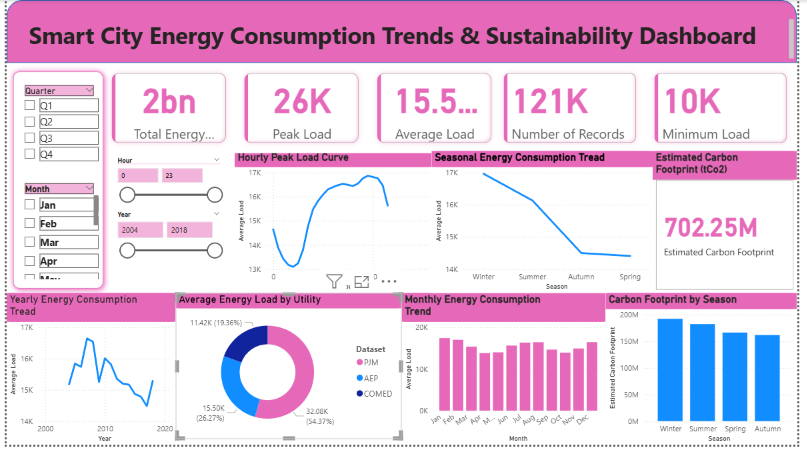

Layout of this report page (visuals, bound fields, positions):
{"tool":"powerbi","page":{"name":"Page 1","canvas":[1280,720],"ordinal":0},"visuals":[{"type":"lineChart","title":" Hourly Peak Load Curve","fields":{"Category":["EnergyData.Hour"],"Y":["EnergyData.Average Load"]},"box":[369.2,244.5,319,229.9],"z":0},{"type":"cardVisual","fields":{"Data":["EnergyData.Total Energy Consumption","EnergyData.Peak Load","EnergyData.Average Load"]},"box":[153.8,102,649.3,145.7],"z":1000},{"type":"cardVisual","fields":{"Data":["EnergyData.Number of Records","EnergyData.Minimum Load"]},"box":[788.6,102,490.6,145.7],"z":2000},{"type":"shape","box":[0,0,1279.2,102],"z":3000},{"type":"textbox","box":[0,26.5,1279.4,75.6],"z":4000},{"type":"shape","box":[0,105.2,166.8,372.4],"z":5000},{"type":"columnChart","title":"Monthly Energy Consumption Trend","fields":{"Category":["EnergyData.Month"],"Y":["EnergyData.Average Load"]},"box":[639.6,474.4,330.3,246.1],"z":6000},{"type":"lineChart","title":"Seasonal Energy Consumption Tread","fields":{"Category":["EnergyData.Season"],"Y":["EnergyData.Average Load"]},"box":[688.2,244.5,357.8,229.9],"z":7000},{"type":"lineChart","title":"Yearly Energy Consumption Tread","fields":{"Category":["EnergyData.Year"],"Y":["EnergyData.Average Load"]},"box":[0,474.4,273.6,246.1],"z":8000},{"type":"slicer","fields":{"Values":["EnergyData.Year"]},"box":[166.8,335.2,191.1,103.6],"z":9000},{"type":"slicer","fields":{"Values":["EnergyData.Quarter"]},"box":[16.2,132.8,137.6,140.9],"z":10000},{"type":"slicer","fields":{"Values":["EnergyData.Month"]},"box":[16.2,291.5,137.6,165.2],"z":11000},{"type":"slicer","fields":{"Values":["EnergyData.Hour"]},"box":[166.8,247.7,191.1,87.4],"z":12000},{"type":"donutChart","title":"Average  Energy Load by Utility","fields":{"Category":["EnerdyComparison.Dataset"],"Y":["Avg(EnerdyComparison.Load_MW)"]},"box":[273.6,474.4,365.9,236.4],"z":13000},{"type":"cardVisual","title":"Estimated Carbon Footprint (tCo2)","fields":{"Data":["COMED_hourly.Estimated Carbon Footprint"]},"box":[1046,244.5,233.2,229.9],"z":14000},{"type":"columnChart","title":" Carbon Footprint by Season","fields":{"Category":["EnergyData.Season"],"Y":["COMED_hourly.Estimated Carbon Footprint"]},"box":[969.9,474.4,309.3,246.1],"z":15000}]}

Visuals, with their boxes in screenshot pixels (x1, y1, x2, y2), scaled from the page's 1280x720 canvas onto the 807x451 screenshot:
" Hourly Peak Load Curve" lineChart: rect(233, 153, 434, 297)
cardVisual - EnergyData.Total Energy Consumption x EnergyData.Peak Load: rect(97, 64, 506, 155)
cardVisual - EnergyData.Number of Records x EnergyData.Minimum Load: rect(497, 64, 806, 155)
shape: rect(0, 0, 806, 64)
textbox: rect(0, 17, 806, 64)
shape: rect(0, 66, 105, 299)
"Monthly Energy Consumption Trend" columnChart: rect(403, 297, 611, 450)
"Seasonal Energy Consumption Tread" lineChart: rect(434, 153, 659, 297)
"Yearly Energy Consumption Tread" lineChart: rect(0, 297, 172, 450)
slicer - EnergyData.Year: rect(105, 210, 226, 275)
slicer - EnergyData.Quarter: rect(10, 83, 97, 171)
slicer - EnergyData.Month: rect(10, 183, 97, 286)
slicer - EnergyData.Hour: rect(105, 155, 226, 210)
"Average  Energy Load by Utility" donutChart: rect(172, 297, 403, 445)
"Estimated Carbon Footprint (tCo2)" cardVisual: rect(659, 153, 806, 297)
" Carbon Footprint by Season" columnChart: rect(611, 297, 806, 450)
